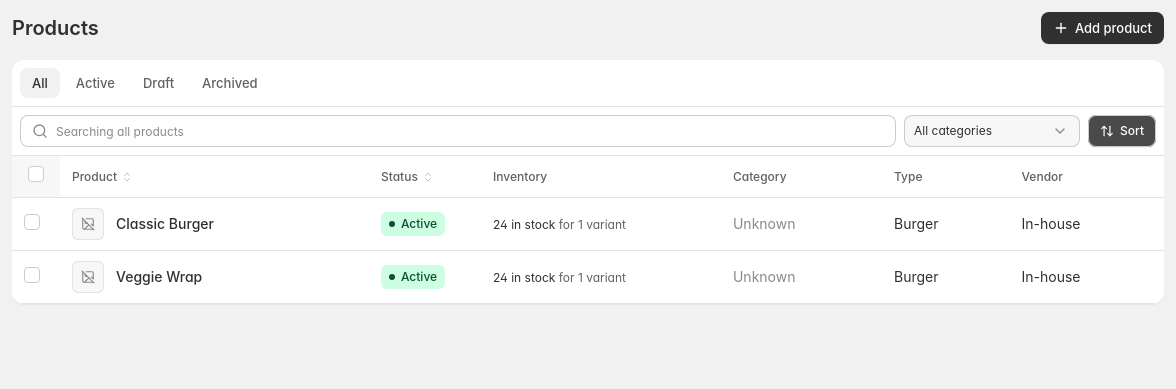
it: bulk product actions › offers nothing until something is selected
Expected: the link "Classic Burger" is shown, [116,214,214,234]
Click the checkbox named "Select row" next to "Classic Burger" at x=32, y=222, box [24,214,40,230]
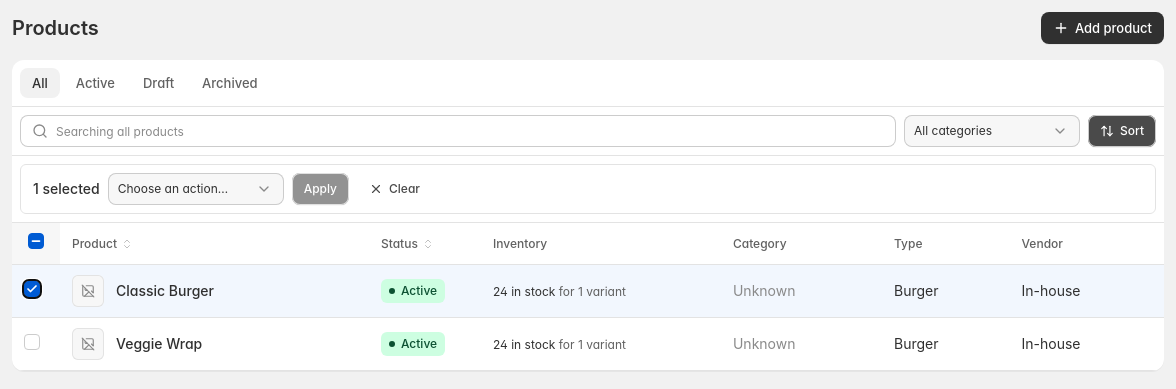
Expected: the dropdown named "Bulk action" is shown, [108,173,284,205]
Expected: the text "1 selected" is shown, [33,179,100,199]
